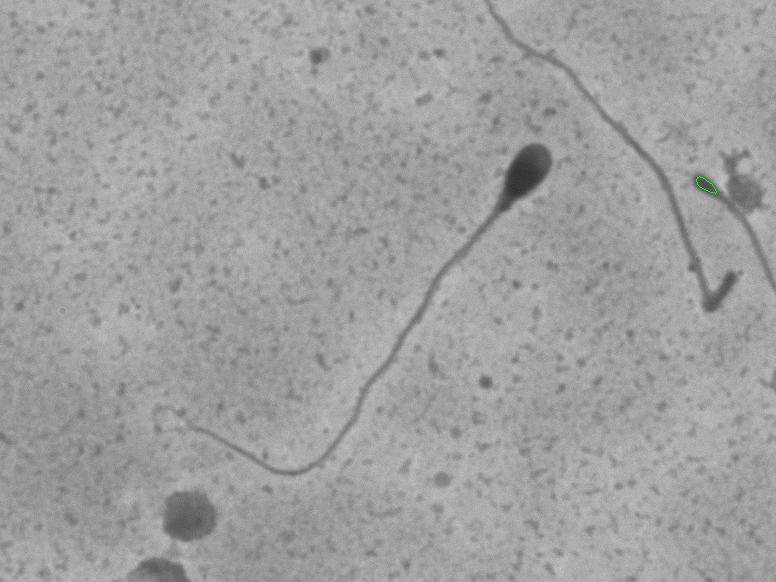Normal: (148, 118, 565, 480)
